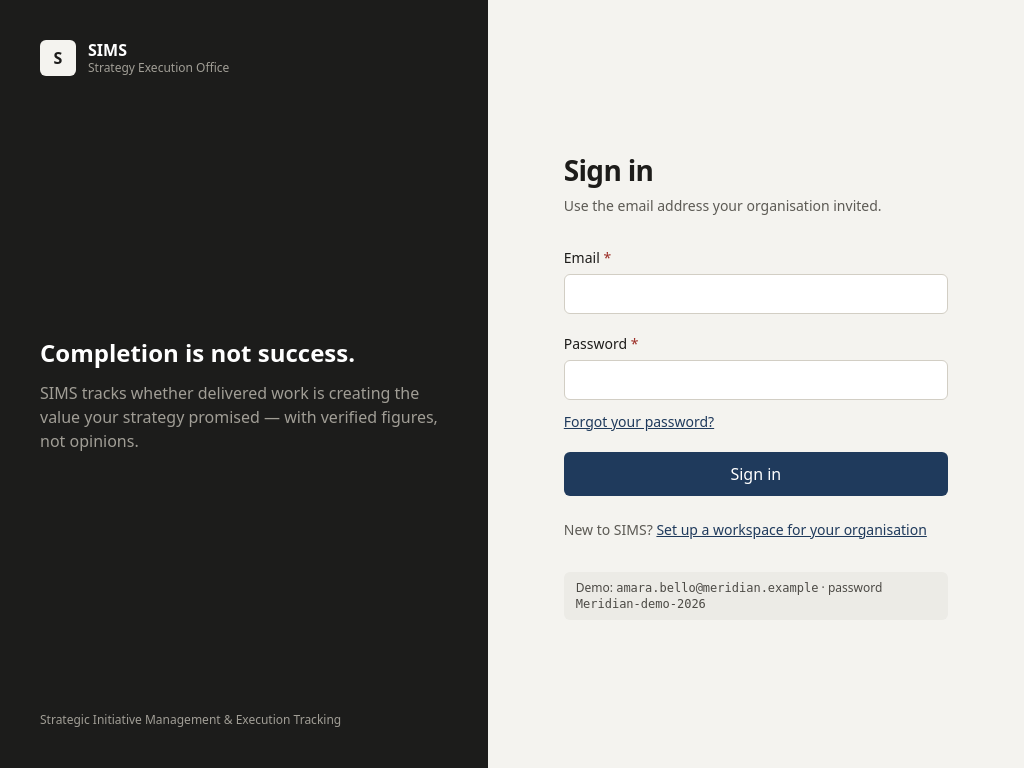
it: signing in › explains a wrong password
Step 1. Type "amara.bello@meridian.example" into the field labelled "Email *" → [756, 294], box [564,274,948,314]
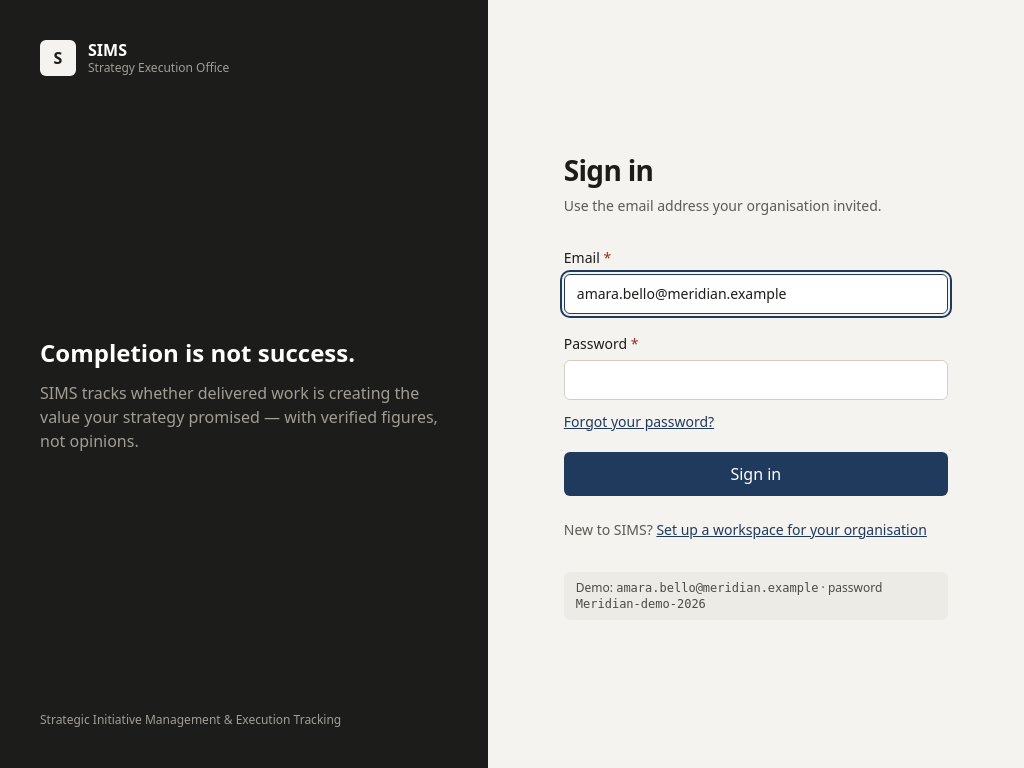
Step 2. Type "wrong-password" into the password field labelled "Password *" → [756, 380], box [564,360,948,400]
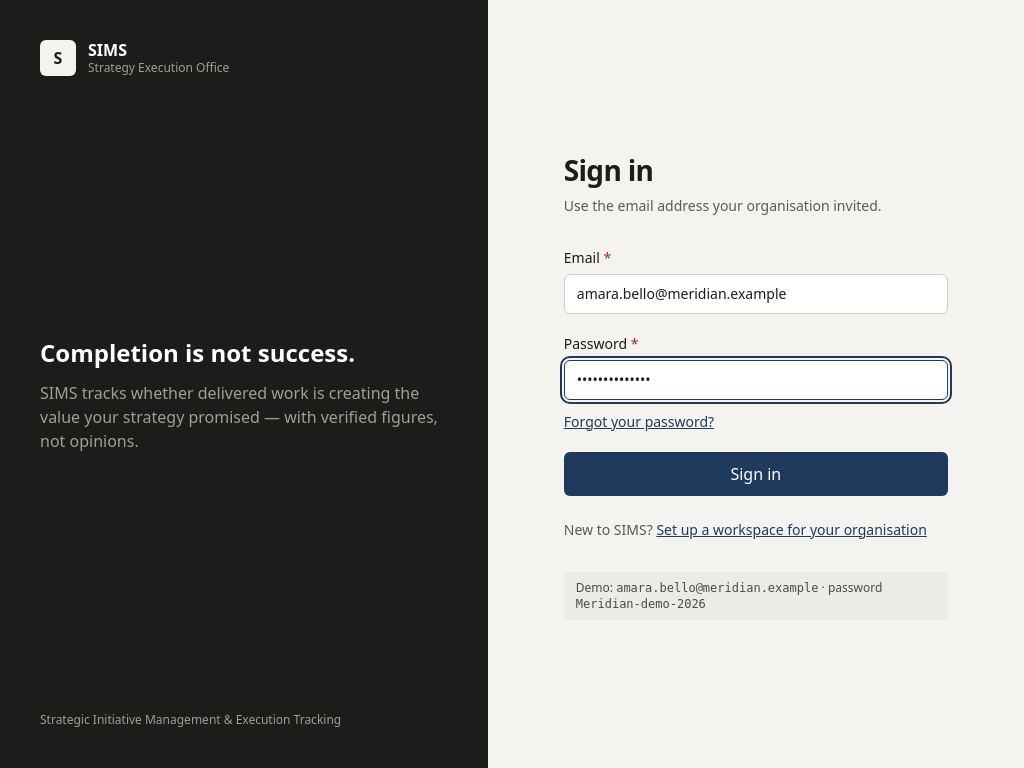
Step 3. Click the button "Sign in" → [756, 474], box [564,452,948,496]
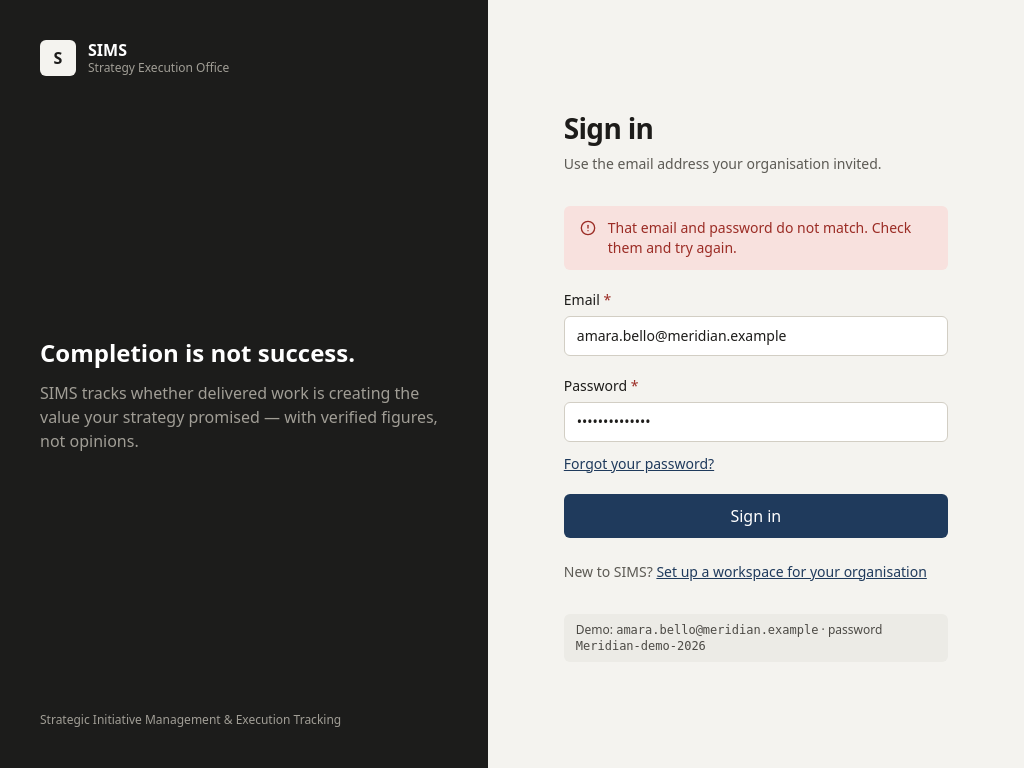
Result: the message shows "That email and password do not match" at [608,218,911,257]
